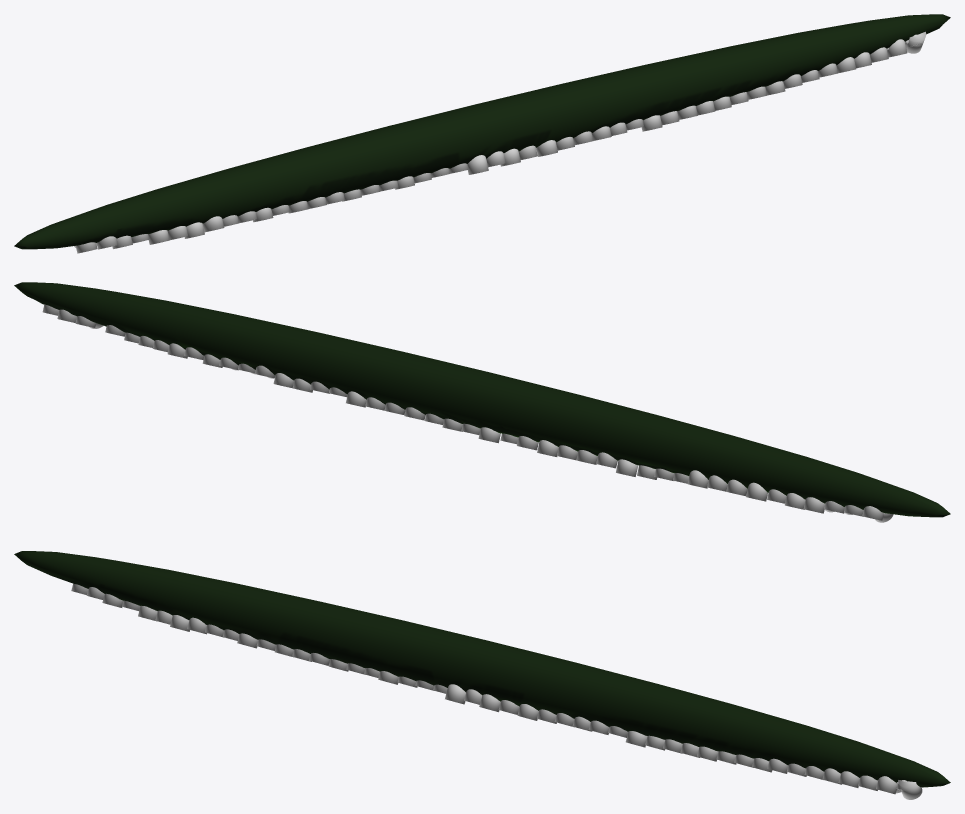
Rendered from Tentakel1.fbx.
3 renders of one model, top to bottom at view 1: azimuth 30°, elevation 25°; view 2: azimuth 150°, elevation 25°; view 3: azimuth 330°, elevation 25°, orthographic.
Parts seen in each view (by area): view 1: Tentacle, Suckers; view 2: Tentacle, Suckers; view 3: Tentacle, Suckers.
Part boxes in pixels (x1,y1,x2,y2): Tentacle: (14,14,950,249); Suckers: (74,31,926,253); Tentacle: (14,282,950,517); Suckers: (42,304,893,522); Tentacle: (14,551,950,787); Suckers: (71,583,922,799).
Bounding box in the file's own units: 1250 × 77.82 × 73.23.
